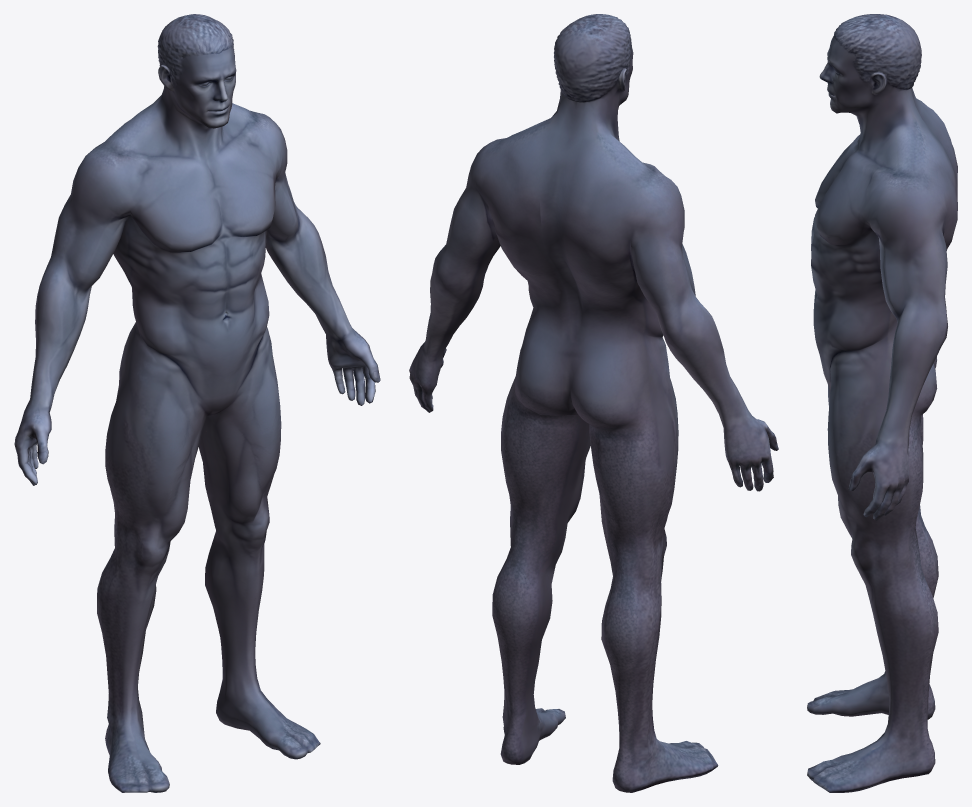
Rendered from tripo-body-study.glb.
3 views of the same model, side by side, from view 1: azimuth 30°, elevation 25°; view 2: azimuth 150°, elevation 25°; view 3: azimuth 270°, elevation 25° (orthographic).
Visible parts, largest first — view 1: tripo-body-study; view 2: tripo-body-study; view 3: tripo-body-study.
Boxes of the visible parts, x1,y1,x2,y2 form: tripo-body-study: [14, 14, 380, 792]; tripo-body-study: [409, 14, 778, 792]; tripo-body-study: [807, 14, 957, 792].
Bounding box in the file's own units: 0.9154 × 1.8 × 0.3385.
1 material, 1 textured.
